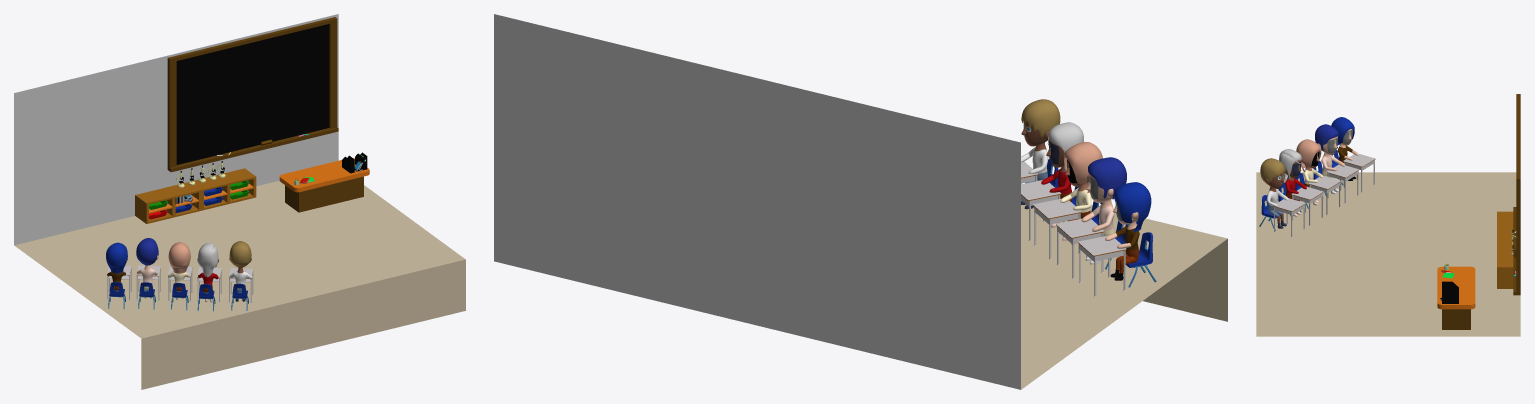
Rendered from Class Room -  Grade 7 - 8 - Updated.fbx.
The picture shows the model from 3 angles, left to right: view 1: azimuth 30°, elevation 25°; view 2: azimuth 150°, elevation 25°; view 3: azimuth 270°, elevation 25°; orthographic projection. The views are drawn at different scales.
Parts seen in each view (by area): view 1: Grade 1 ClassRoom.003; view 2: Grade 1 ClassRoom.003; view 3: Grade 1 ClassRoom.003.
Boxes of the visible parts, <box> form: Grade 1 ClassRoom.003: <box>14,14,465,389</box>; Grade 1 ClassRoom.003: <box>494,14,1227,389</box>; Grade 1 ClassRoom.003: <box>1256,94,1520,336</box>.
Size of the model in its own units: 762 by 457 by 518.
